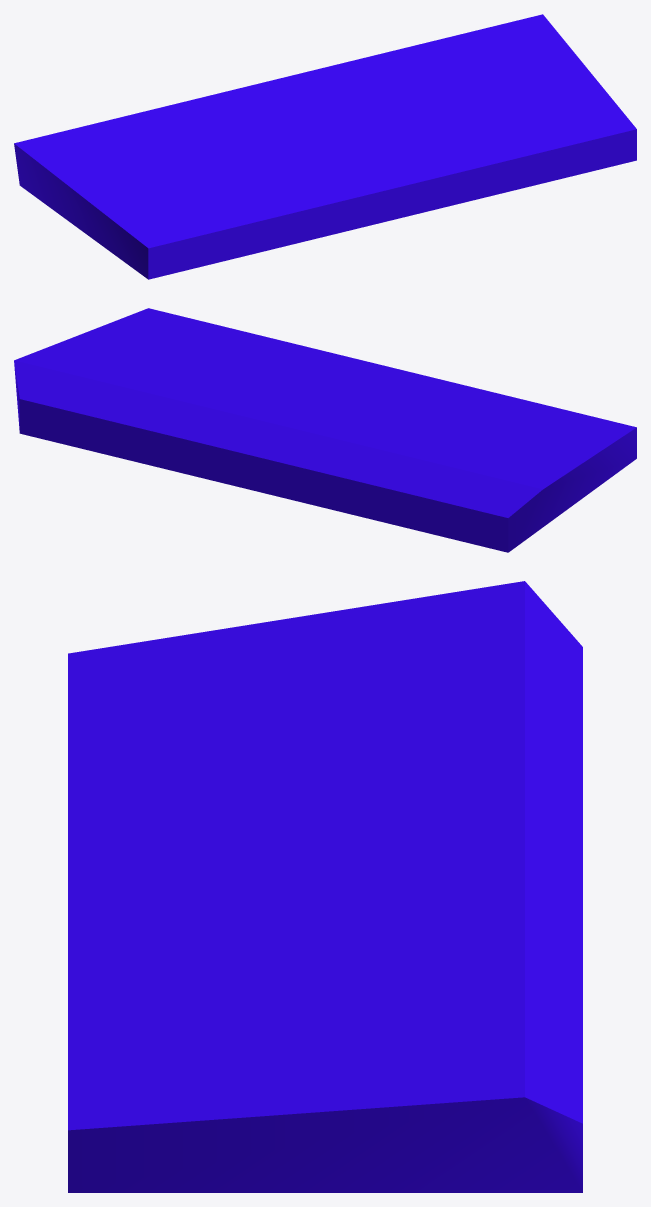
The model's file is office_pack_allInOneComputer_keyboard_1_meshCollider.fbx.
3 renders of one model, top to bottom at view 1: azimuth 30°, elevation 25°; view 2: azimuth 150°, elevation 25°; view 3: azimuth 270°, elevation 25°, orthographic. The views are drawn at different scales.
Parts seen in each view (by area): view 1: office_pack_allInOneComputer_keyboard_1_meshCollider; view 2: office_pack_allInOneComputer_keyboard_1_meshCollider; view 3: office_pack_allInOneComputer_keyboard_1_meshCollider.
Part boxes in pixels (x1,y1,x2,y2): office_pack_allInOneComputer_keyboard_1_meshCollider: (14, 14, 636, 279); office_pack_allInOneComputer_keyboard_1_meshCollider: (14, 308, 636, 552); office_pack_allInOneComputer_keyboard_1_meshCollider: (68, 581, 582, 1192).
Size of the model in its own units: 34.46 by 3.59 by 14.52.
